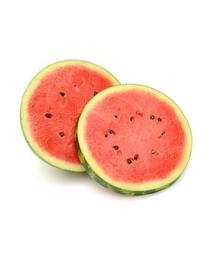watermelon: (18, 58, 193, 198)
